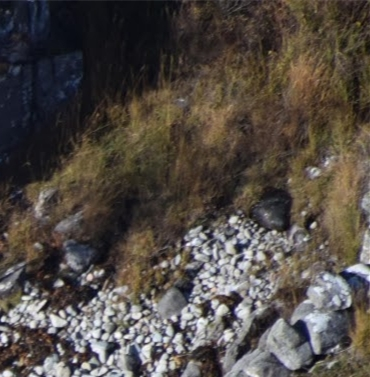white_in_green: (219, 161, 326, 257)
